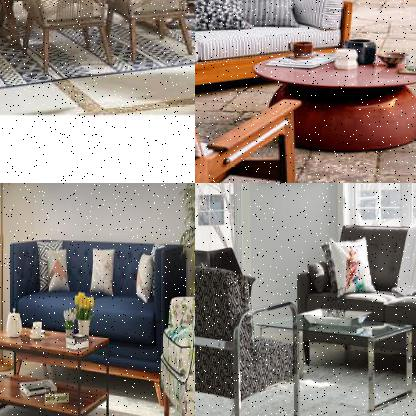table: (250, 45, 415, 156), (253, 307, 416, 415), (0, 0, 194, 57), (0, 319, 112, 415)
